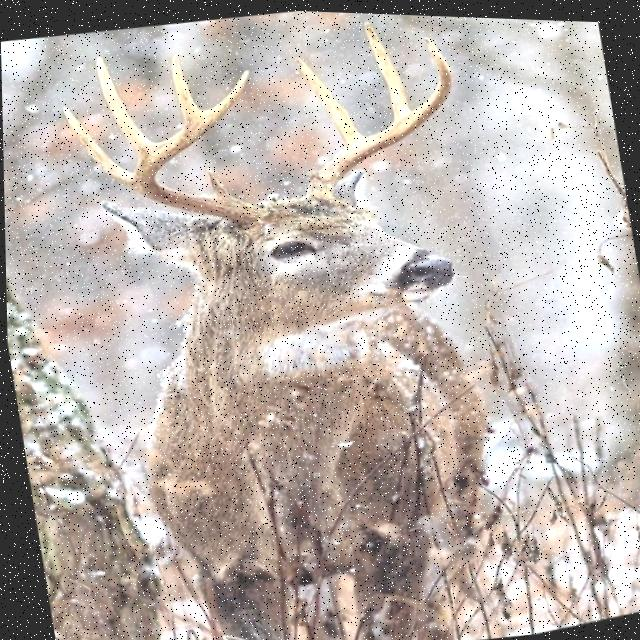L-F: (132, 66, 256, 225)
L-G1: (205, 165, 233, 197)
L-G2: (61, 105, 136, 191)
L-G3: (96, 54, 159, 161)
L-G4: (170, 51, 207, 126)
R-F: (307, 32, 453, 198)
R-G2: (294, 54, 369, 147)
R-G3: (364, 17, 413, 119)
